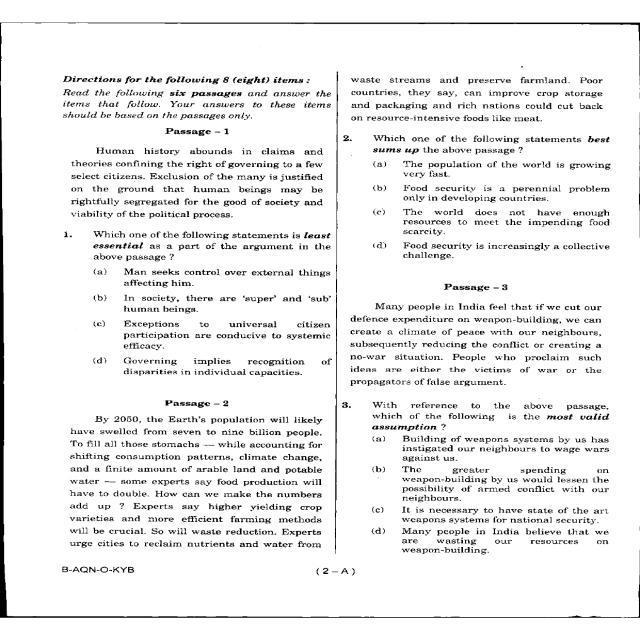Answer_Block: (337, 429, 640, 561), (18, 264, 332, 388), (337, 158, 640, 266)
Question_Answer_Block: (337, 278, 640, 561), (18, 125, 332, 388), (337, 47, 640, 266), (18, 389, 332, 556)
Question_Block: (18, 389, 332, 556), (337, 278, 640, 432), (18, 125, 332, 263), (337, 47, 640, 157)
Question_Paper_Area: (18, 44, 332, 556), (337, 51, 640, 563)
